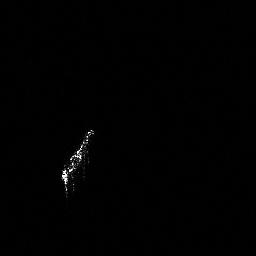ship: (57, 127, 96, 198)
